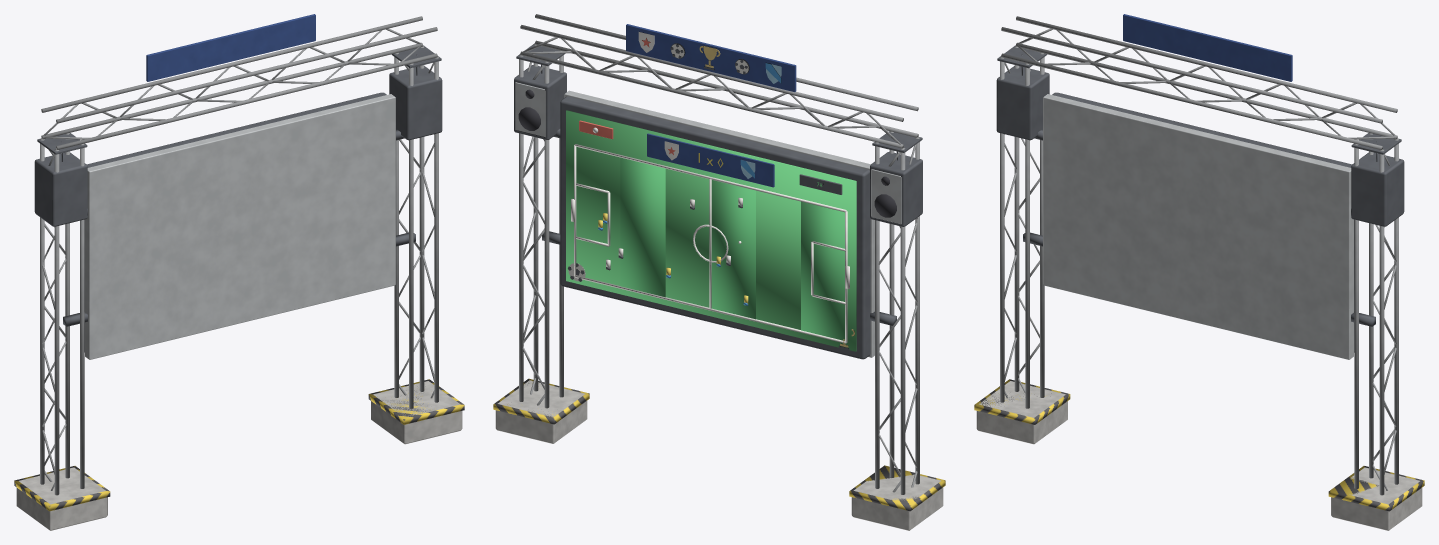
Rendered from Jogo_BigScreen.fbx.
3 views of the same model, side by side, from view 1: azimuth 30°, elevation 25°; view 2: azimuth 150°, elevation 25°; view 3: azimuth 330°, elevation 25° (orthographic).
Parts seen in each view (by area): view 1: Jogo_BigScreen; view 2: Jogo_BigScreen; view 3: Jogo_BigScreen.
Part boxes in pixels (x1,y1,x2,y2): Jogo_BigScreen: (14,14,464,530); Jogo_BigScreen: (493,14,945,530); Jogo_BigScreen: (974,14,1424,530).
Size of the model in its own units: 4.92 by 4.86 by 0.72.
1 material, 1 textured.
